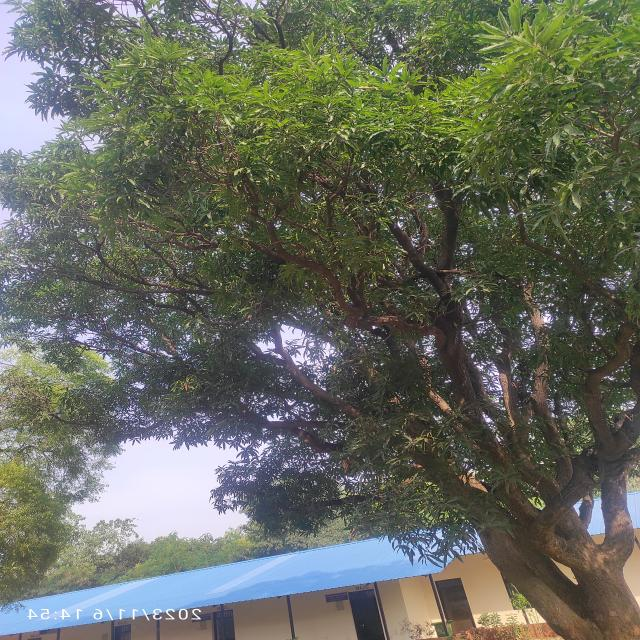Mango Tree: (123, 1, 640, 528)
Neem Tree: (1, 339, 121, 564)
